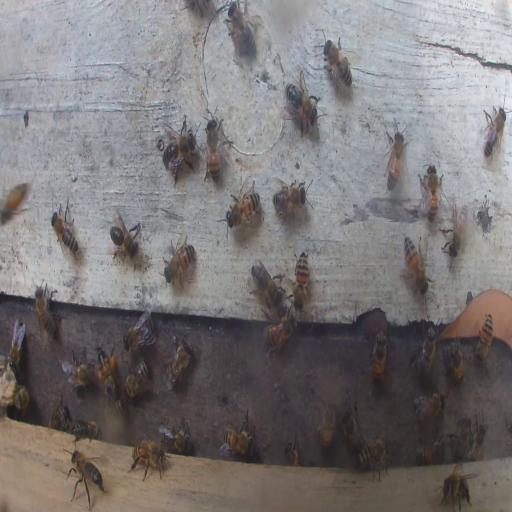nonpollenbee: (283, 69, 323, 134), (158, 121, 198, 178), (321, 33, 355, 91), (67, 448, 104, 500), (441, 198, 469, 262), (164, 234, 196, 289), (226, 4, 256, 60), (437, 466, 473, 512), (412, 320, 440, 379), (403, 235, 429, 298), (164, 332, 192, 388), (34, 280, 60, 340), (263, 311, 296, 358), (108, 212, 141, 259), (250, 262, 285, 306), (418, 162, 444, 221), (481, 105, 507, 164), (272, 178, 310, 218), (384, 122, 406, 190), (51, 204, 78, 257), (122, 310, 156, 352), (130, 439, 166, 478), (357, 435, 388, 479), (220, 419, 255, 457), (227, 188, 260, 226), (63, 349, 93, 390), (204, 116, 222, 184), (412, 389, 448, 420), (124, 358, 149, 400), (368, 332, 388, 384), (317, 400, 337, 450), (340, 404, 362, 448), (160, 422, 191, 453), (1, 183, 29, 217), (7, 318, 24, 373), (476, 314, 494, 363), (444, 341, 464, 384), (294, 250, 309, 304), (468, 419, 486, 463), (416, 439, 446, 465), (72, 418, 100, 440), (50, 398, 68, 430), (457, 416, 470, 456), (11, 384, 29, 412), (283, 438, 299, 468)
pollenbee: (96, 347, 117, 400)
